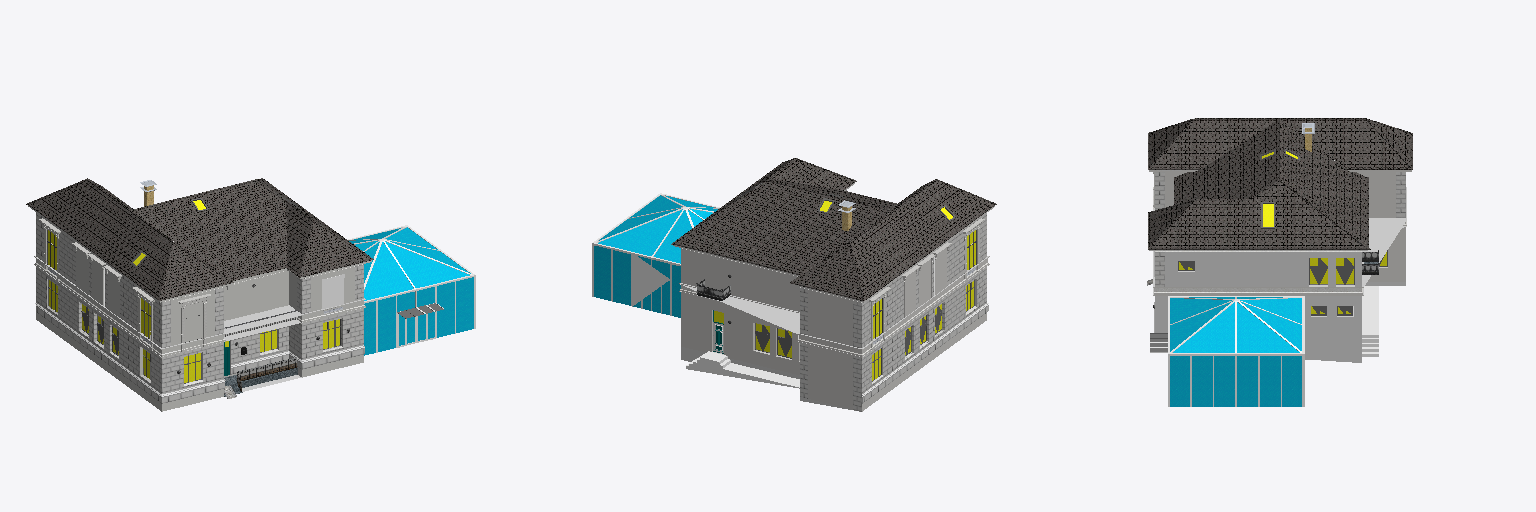
The picture shows the model from 3 angles: view 1: azimuth 30°, elevation 25°; view 2: azimuth 150°, elevation 25°; view 3: azimuth 270°, elevation 25°; orthographic projection.
Parts seen in each view (by area): view 1: Mesh270 LeftBuilding_Foundation_Outline1_1 Model, Mesh5 GlassBuilding1 Model, Mesh6 LeftBuilding_Side_Front_Stairs1 LeftBuilding_Side_Front_St, Mesh272 LeftBuilding_Foundation_Outline1_1 Model, Mesh18 LeftBuilding_Side_All_SecondFloorBigDetailedWindow_COMPLE, Mesh17 LeftBuilding_Side_All_SecondFloorBigDetailedWindow_COMPLE, Mesh278 Model, Mesh16 LeftBuilding_Side_All_SecondFloorBigDetailedWindow_COMPLE; view 2: Mesh270 LeftBuilding_Foundation_Outline1_1 Model, Mesh5 GlassBuilding1 Model, Mesh8 LeftBuilding_Side_Back_Stairs1 Model, Mesh272 LeftBuilding_Foundation_Outline1_1 Model, Mesh18 LeftBuilding_Side_All_SecondFloorBigDetailedWindow_COMPLE, Mesh17 LeftBuilding_Side_All_SecondFloorBigDetailedWindow_COMPLE; view 3: Mesh270 LeftBuilding_Foundation_Outline1_1 Model, Mesh5 GlassBuilding1 Model, Mesh8 LeftBuilding_Side_Back_Stairs1 Model, Mesh272 LeftBuilding_Foundation_Outline1_1 Model.
Boxes of the visible parts, x1=… form: Mesh270 LeftBuilding_Foundation_Outline1_1 Model: x1=28, y1=178, x2=371, y2=411; Mesh5 GlassBuilding1 Model: x1=348, y1=225, x2=475, y2=355; Mesh6 LeftBuilding_Side_Front_Stairs1 LeftBuilding_Side_Front_St: x1=224, y1=357, x2=297, y2=398; Mesh272 LeftBuilding_Foundation_Outline1_1 Model: x1=26, y1=178, x2=254, y2=300; Mesh18 LeftBuilding_Side_All_SecondFloorBigDetailedWindow_COMPLE: x1=133, y1=287, x2=154, y2=350; Mesh17 LeftBuilding_Side_All_SecondFloorBigDetailedWindow_COMPLE: x1=39, y1=218, x2=60, y2=281; Mesh278 Model: x1=322, y1=274, x2=344, y2=308; Mesh16 LeftBuilding_Side_All_SecondFloorBigDetailedWindow_COMPLE: x1=178, y1=294, x2=211, y2=352; Mesh270 LeftBuilding_Foundation_Outline1_1 Model: x1=671, y1=158, x2=995, y2=411; Mesh5 GlassBuilding1 Model: x1=592, y1=193, x2=719, y2=317; Mesh8 LeftBuilding_Side_Back_Stairs1 Model: x1=686, y1=351, x2=799, y2=388; Mesh272 LeftBuilding_Foundation_Outline1_1 Model: x1=768, y1=179, x2=996, y2=300; Mesh18 LeftBuilding_Side_All_SecondFloorBigDetailedWindow_COMPLE: x1=963, y1=218, x2=984, y2=282; Mesh17 LeftBuilding_Side_All_SecondFloorBigDetailedWindow_COMPLE: x1=869, y1=287, x2=890, y2=350; Mesh270 LeftBuilding_Foundation_Outline1_1 Model: x1=1148, y1=120, x2=1411, y2=362; Mesh5 GlassBuilding1 Model: x1=1150, y1=296, x2=1304, y2=406; Mesh8 LeftBuilding_Side_Back_Stairs1 Model: x1=1362, y1=286, x2=1378, y2=356; Mesh272 LeftBuilding_Foundation_Outline1_1 Model: x1=1148, y1=118, x2=1412, y2=178.
Bounding box in the file's own units: 25.87 × 12.83 × 18.22.
Materials: 27 (15 with a texture image).